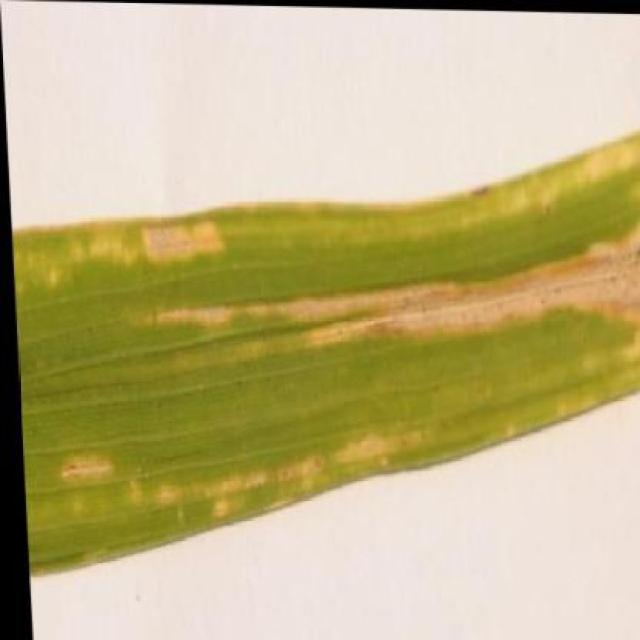Brown_Spot: (3, 99, 640, 583)
